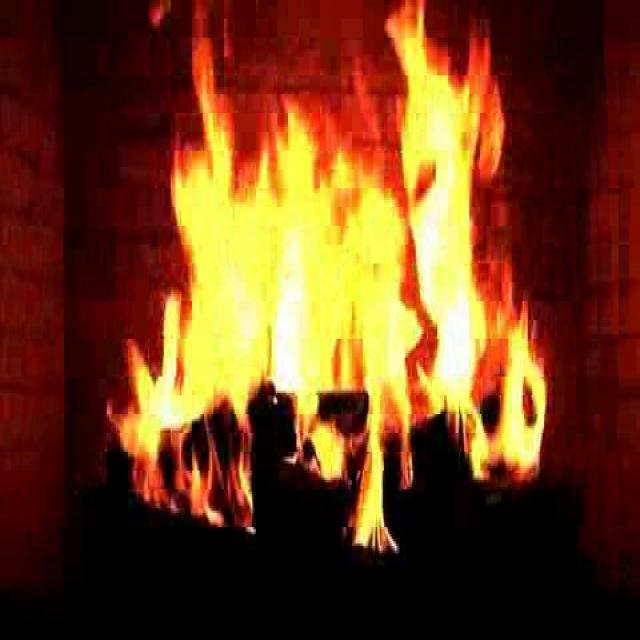fire: (162, 47, 528, 498)
